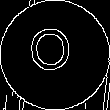O_S: (32, 28, 78, 82)
